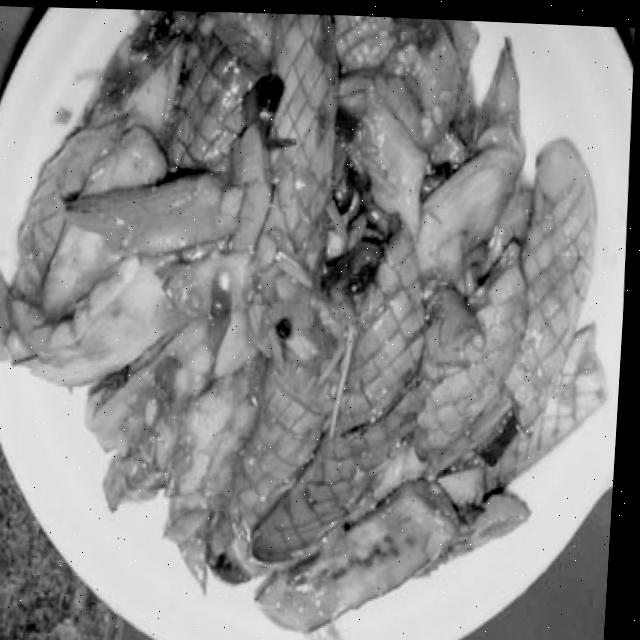鸡蛋料理: (38, 8, 601, 603)
